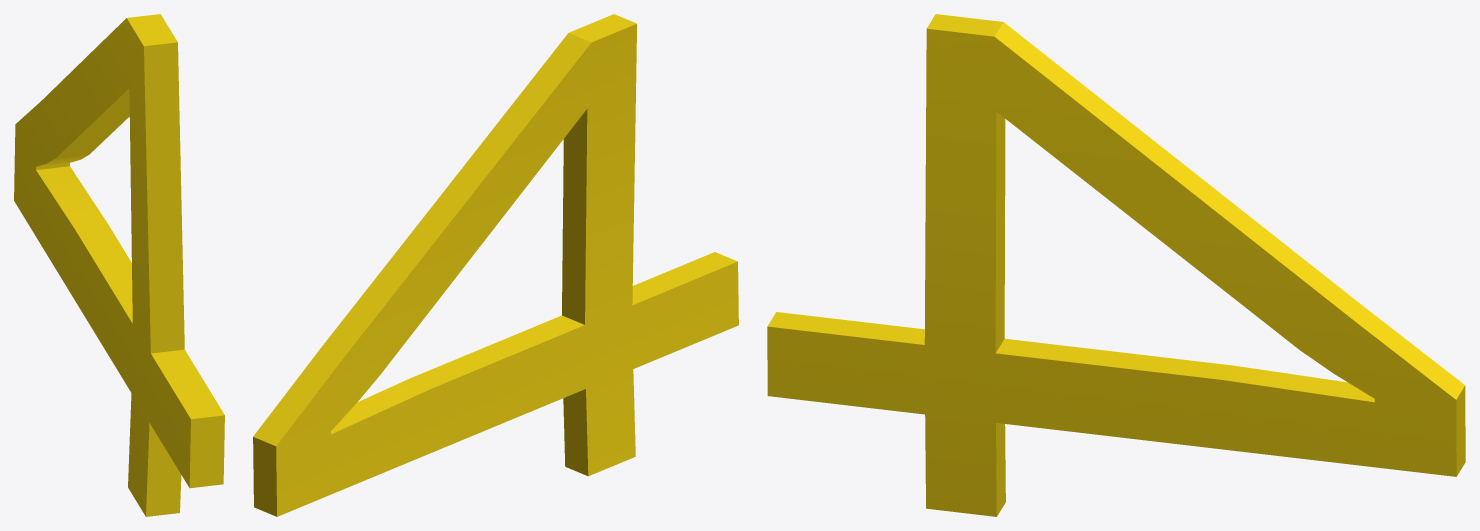
File: Number_4.gltf
3 views of the same model, side by side, from view 1: azimuth 30°, elevation 25°; view 2: azimuth 150°, elevation 25°; view 3: azimuth 270°, elevation 25° (orthographic). The views are drawn at different scales.
Parts seen in each view (by area): view 1: Sub_7_Cell_3_2_Number_4; view 2: Sub_7_Cell_3_2_Number_4; view 3: Sub_7_Cell_3_2_Number_4.
Part boxes in pixels (x1,y1,x2,y2): Sub_7_Cell_3_2_Number_4: [14, 14, 224, 516]; Sub_7_Cell_3_2_Number_4: [253, 14, 738, 516]; Sub_7_Cell_3_2_Number_4: [767, 14, 1465, 516].
Size of the model in its own units: 0.00806 by 0.0187 by 0.0247.
